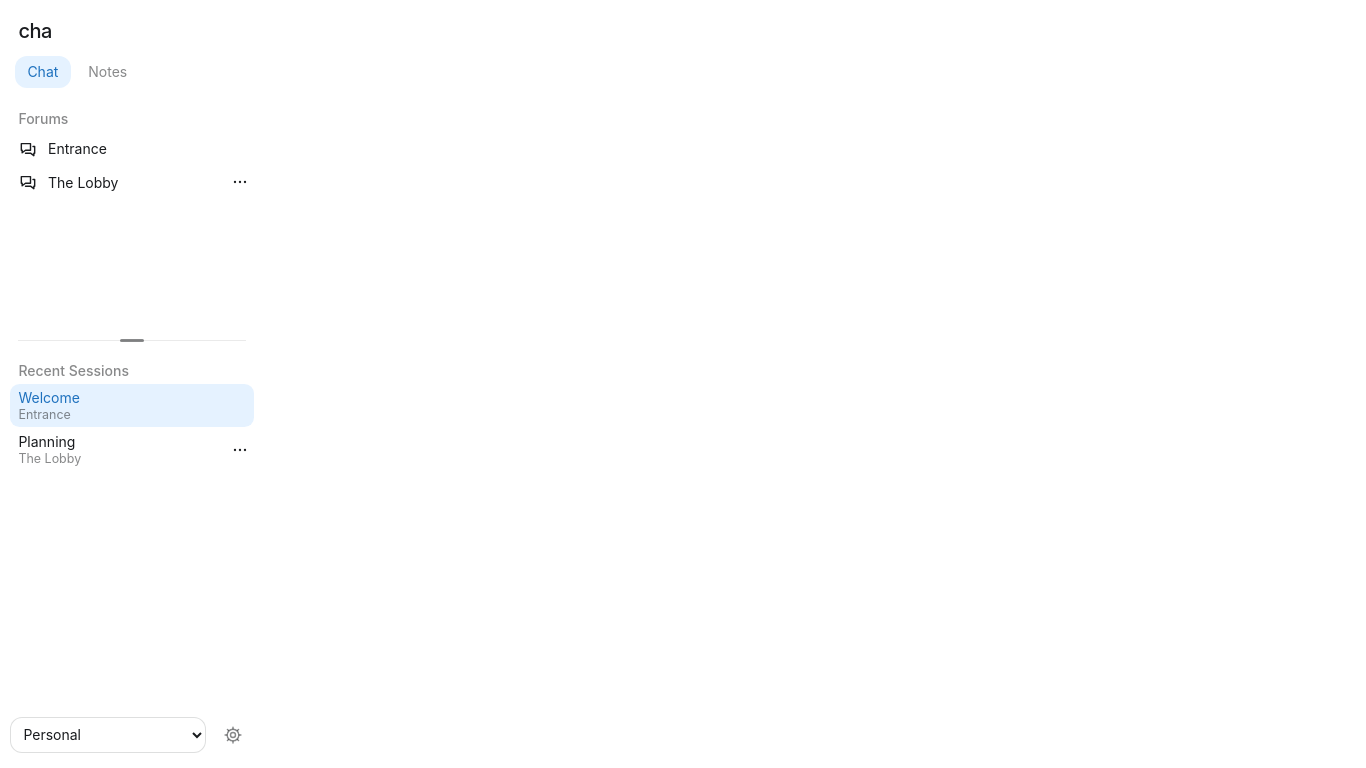
Scenario: Sidebar session actions › keeps an edited name and displays the public rename error
Click the button named "Actions for Planning" at (239,450), box x1=224 y1=435 x2=254 y2=465
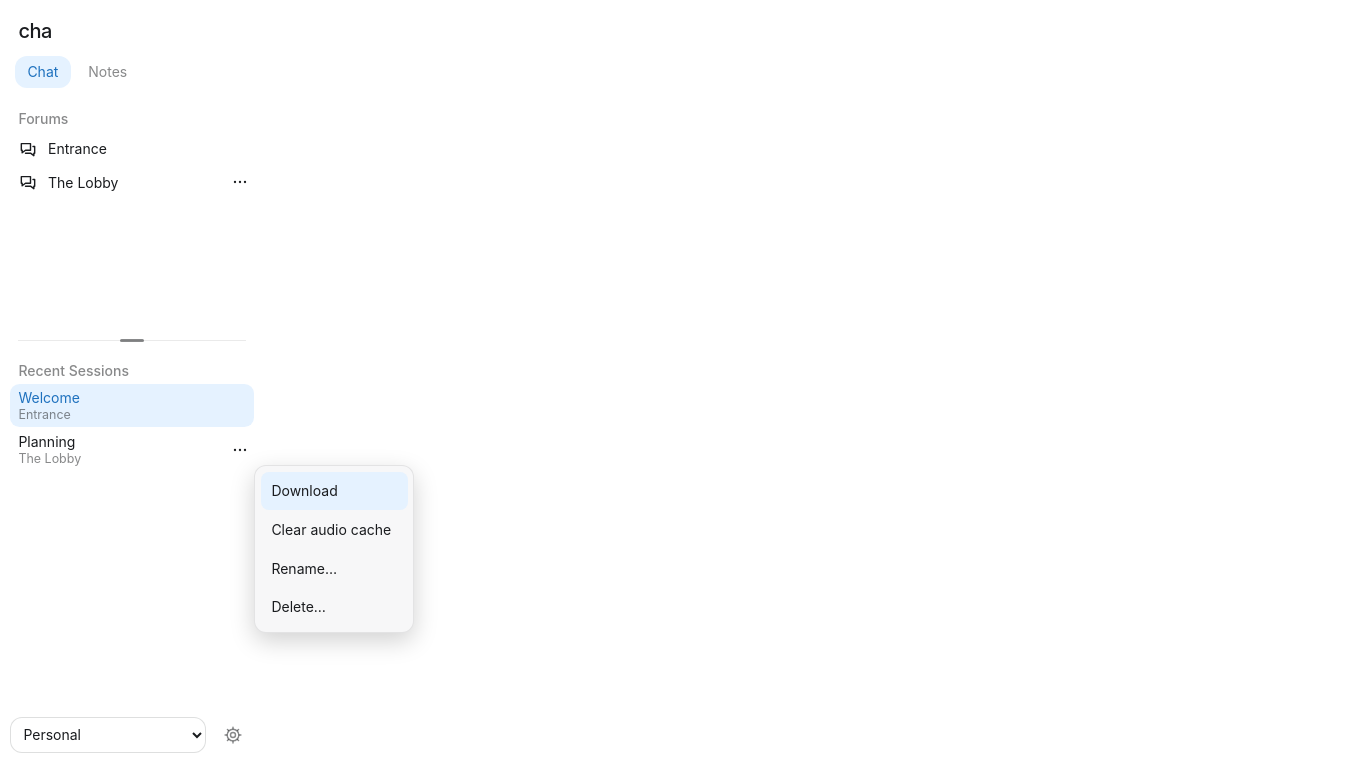
Click the menu item "Rename…" at (334,568), box x1=261 y1=549 x2=408 y2=588
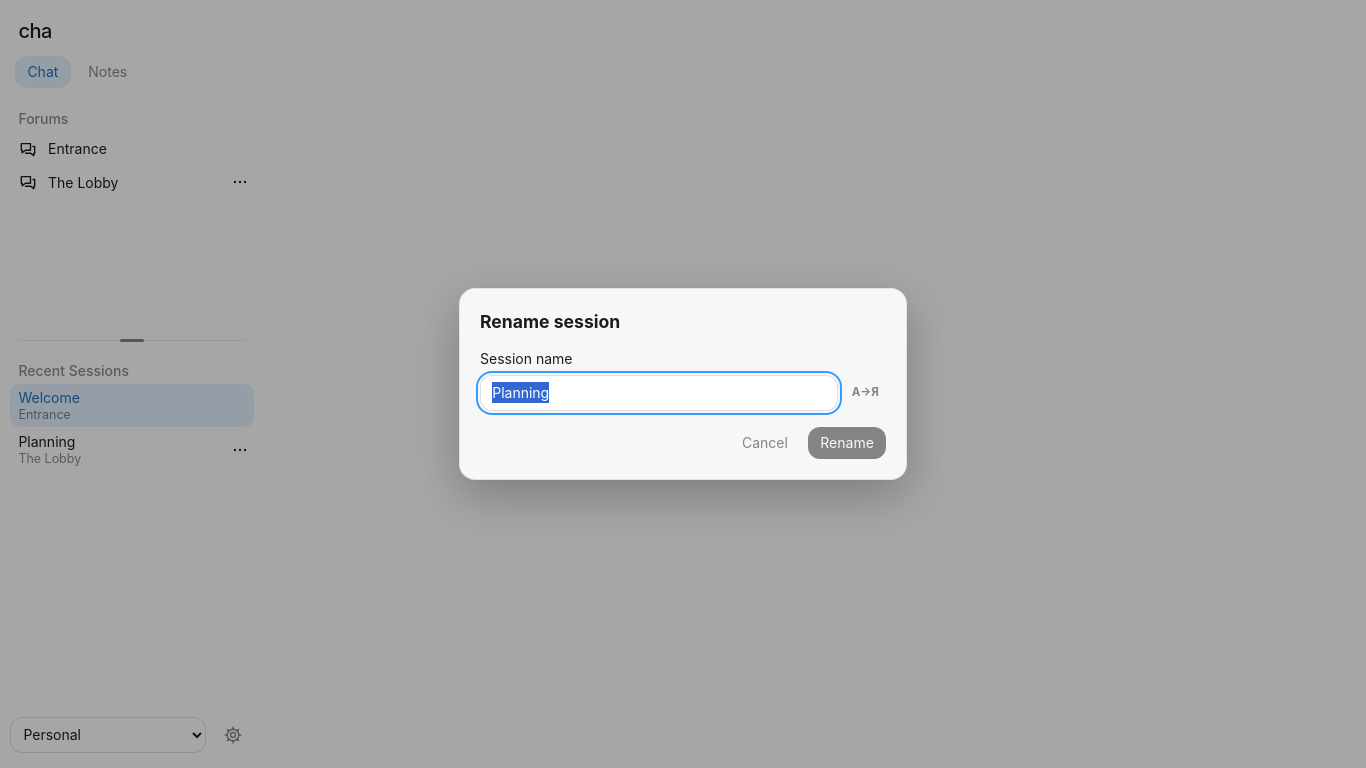
Replace the text in the field labelled "Session name" with "Revised name" at (659,393), box x1=480 y1=375 x2=838 y2=411
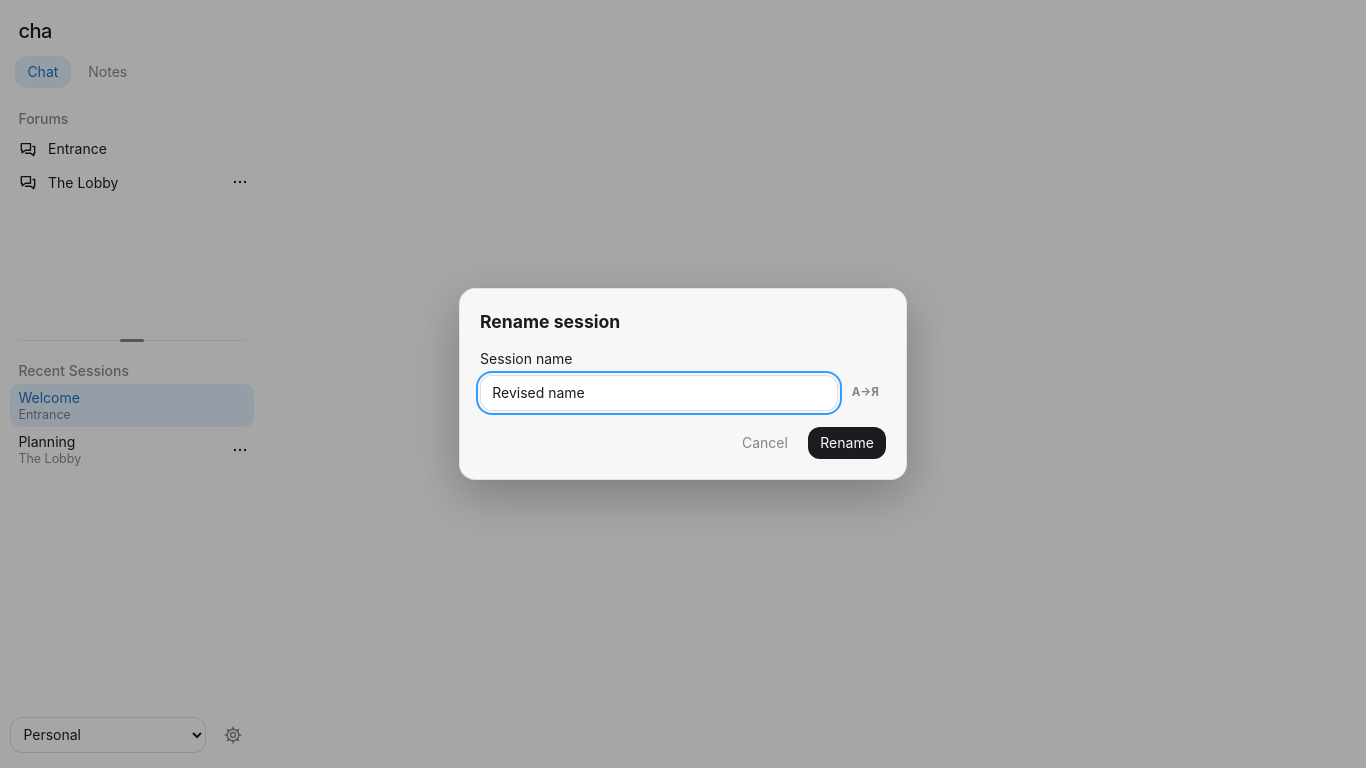
Click the button "Rename" at (847,443), box x1=808 y1=427 x2=886 y2=459
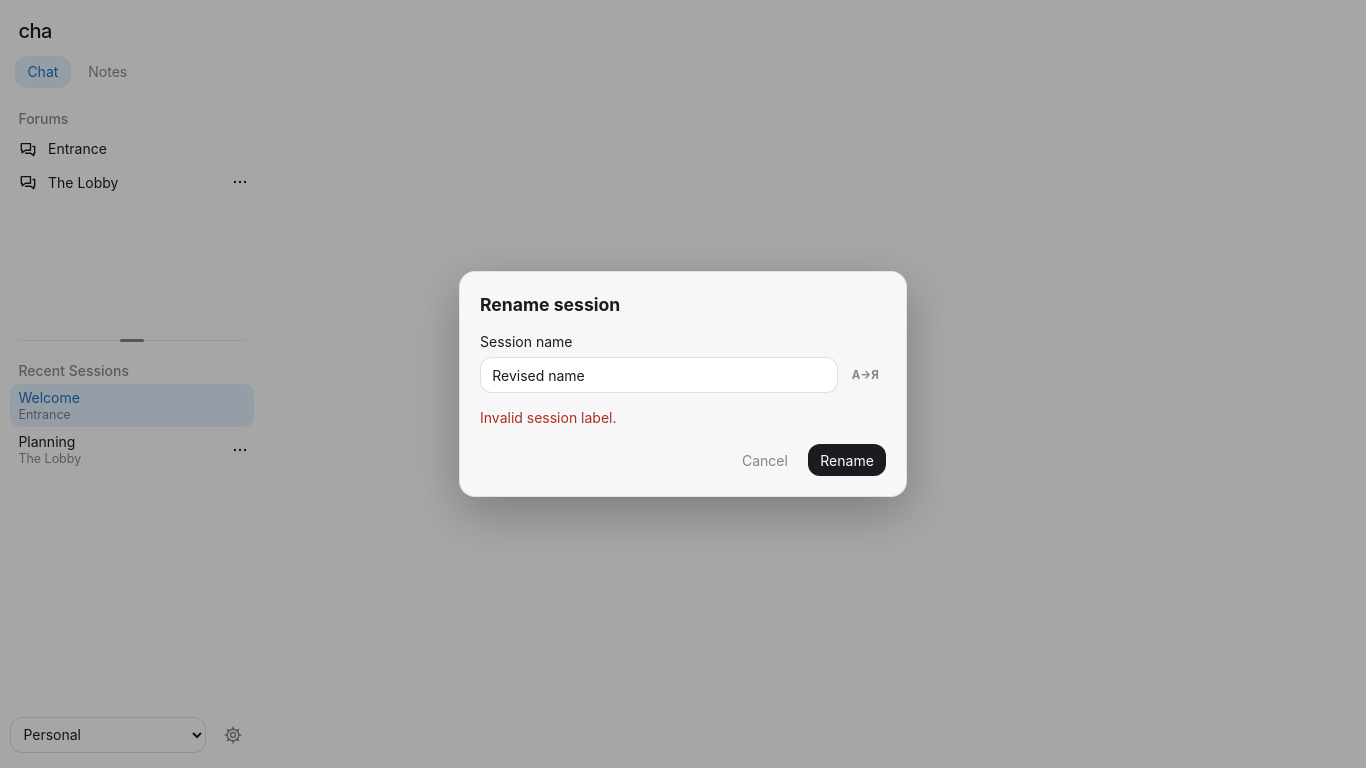
Now the dialog is shown, box x1=459 y1=271 x2=907 y2=497
Now the message reads "Invalid session label.", box x1=480 y1=409 x2=616 y2=426
